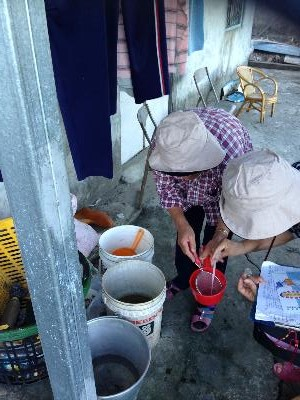bowl: (189, 267, 229, 306)
bucket: (102, 261, 168, 349), (87, 315, 150, 395), (97, 226, 153, 272)
